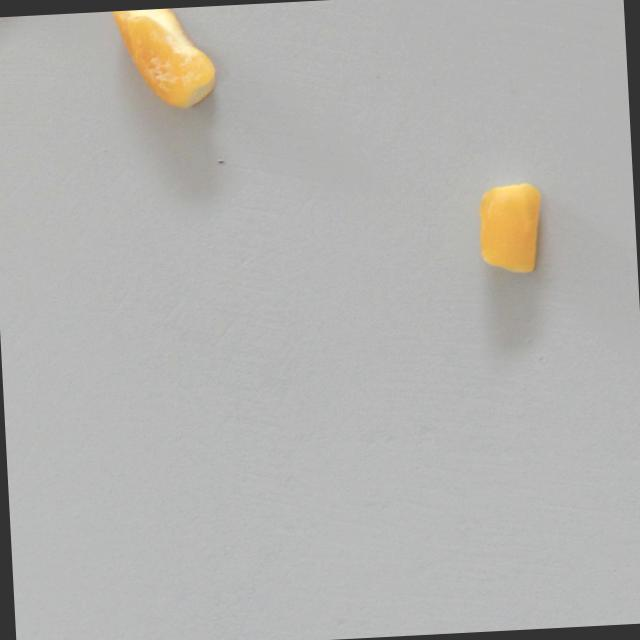estandar: (477, 182, 545, 276)
pelicula: (110, 5, 216, 113)
